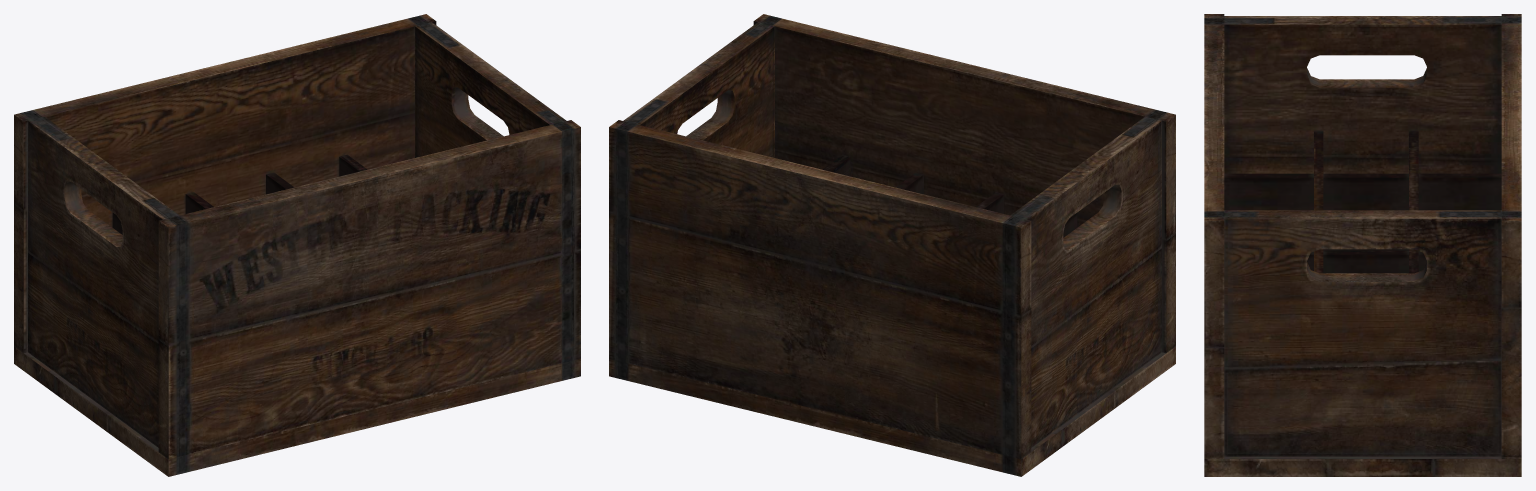
The model's file is Crate_open.gltf.
3 renders of one model, left to right at view 1: azimuth 30°, elevation 25°; view 2: azimuth 150°, elevation 25°; view 3: azimuth 270°, elevation 25°, orthographic. The views are drawn at different scales.
Parts seen in each view (by area): view 1: Crate_open(Clone); view 2: Crate_open(Clone); view 3: Crate_open(Clone).
Part boxes in pixels (x1,y1,x2,y2): Crate_open(Clone): (14, 14, 580, 476); Crate_open(Clone): (609, 14, 1175, 476); Crate_open(Clone): (1204, 14, 1521, 476).
Size of the model in its own units: 0.6126 by 0.3538 by 0.3975.
1 material, 1 textured.
